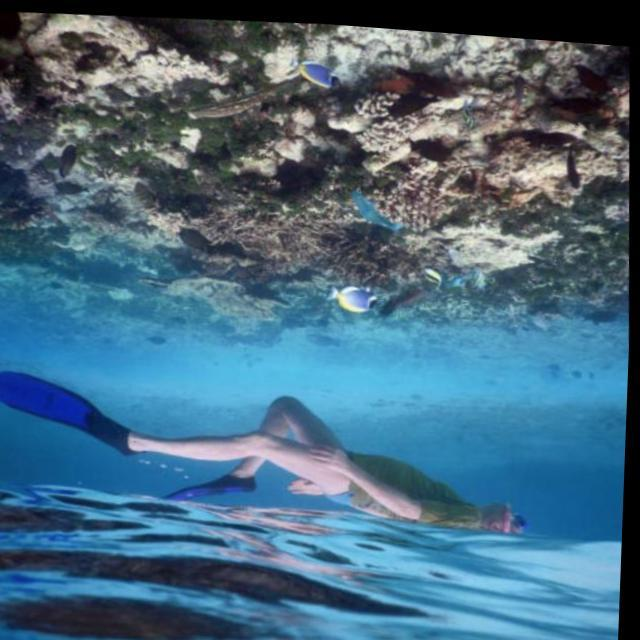Dead Coral: (178, 196, 426, 286)
